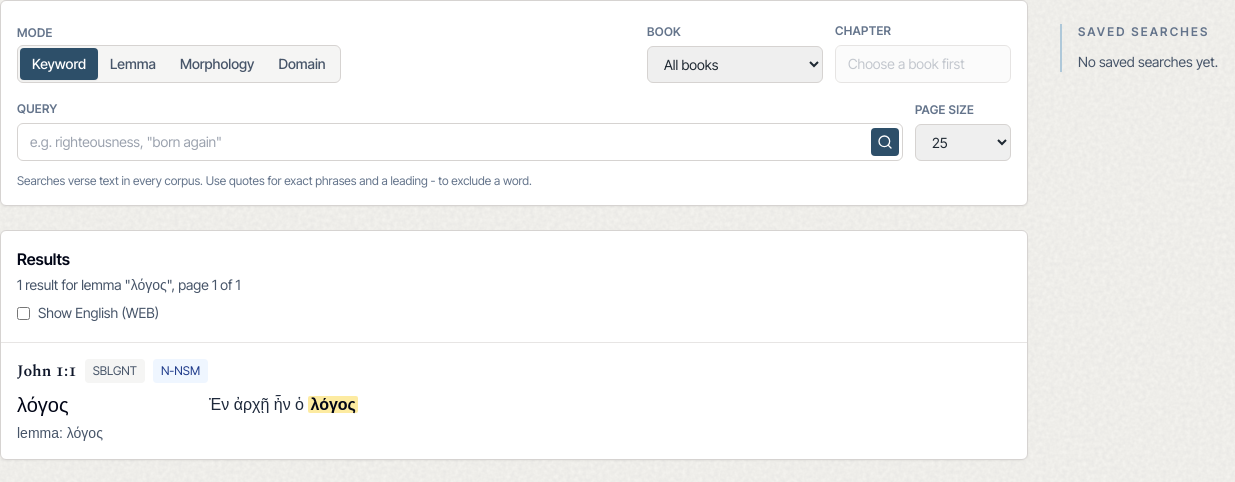
SearchPanel English toggle › shows WEB English under Greek results when toggled on
Expected: the text "In the beginning was the Word" is not shown
Click the checkbox labelled "Show English (WEB)".
click(24, 313)  # box [17,306,30,320]
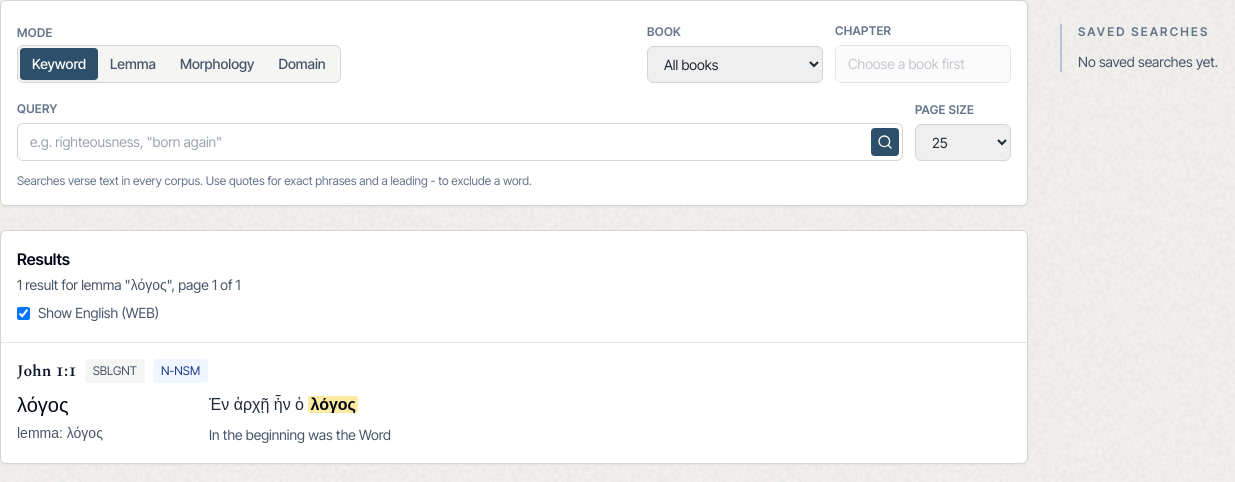
Expected: the text "In the beginning was the Word" is shown, [209,426,391,442]
